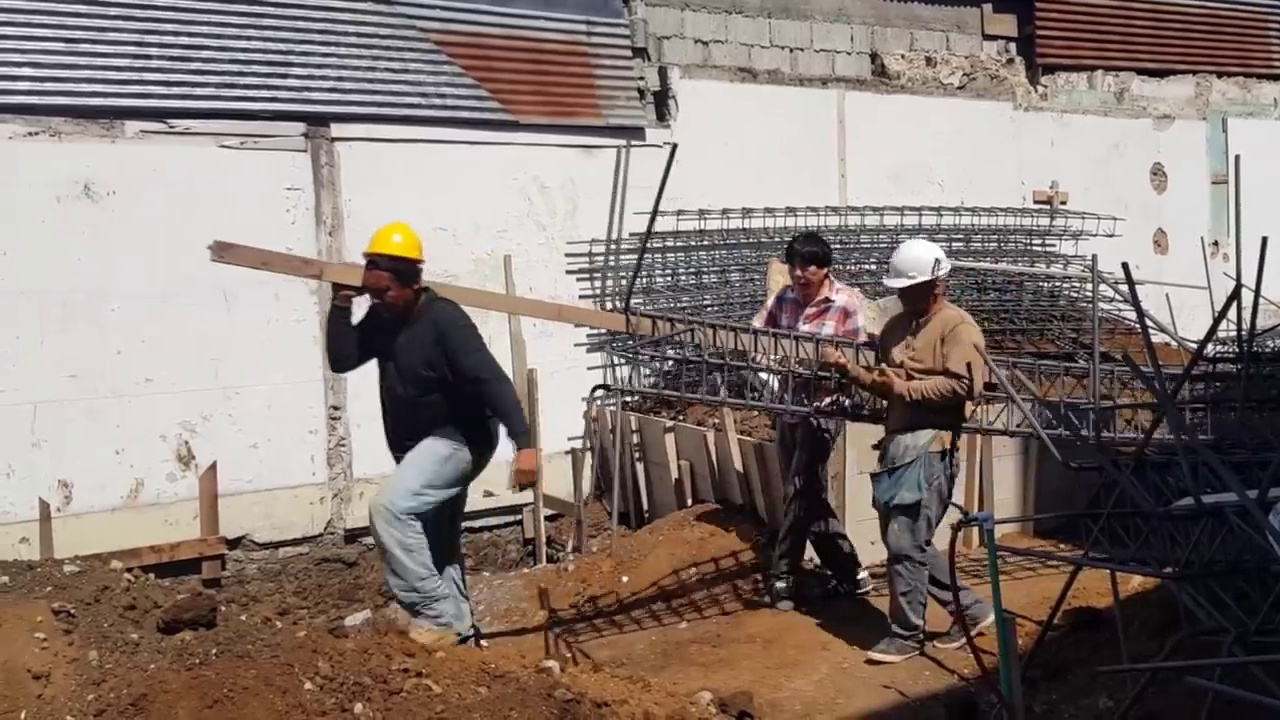helmet: (876, 231, 950, 287), (354, 220, 427, 275)
helmet-off: (782, 233, 838, 301)
helmet-on: (883, 232, 958, 325), (353, 225, 426, 314)
person: (336, 219, 522, 670), (843, 235, 989, 677), (756, 226, 881, 617)
